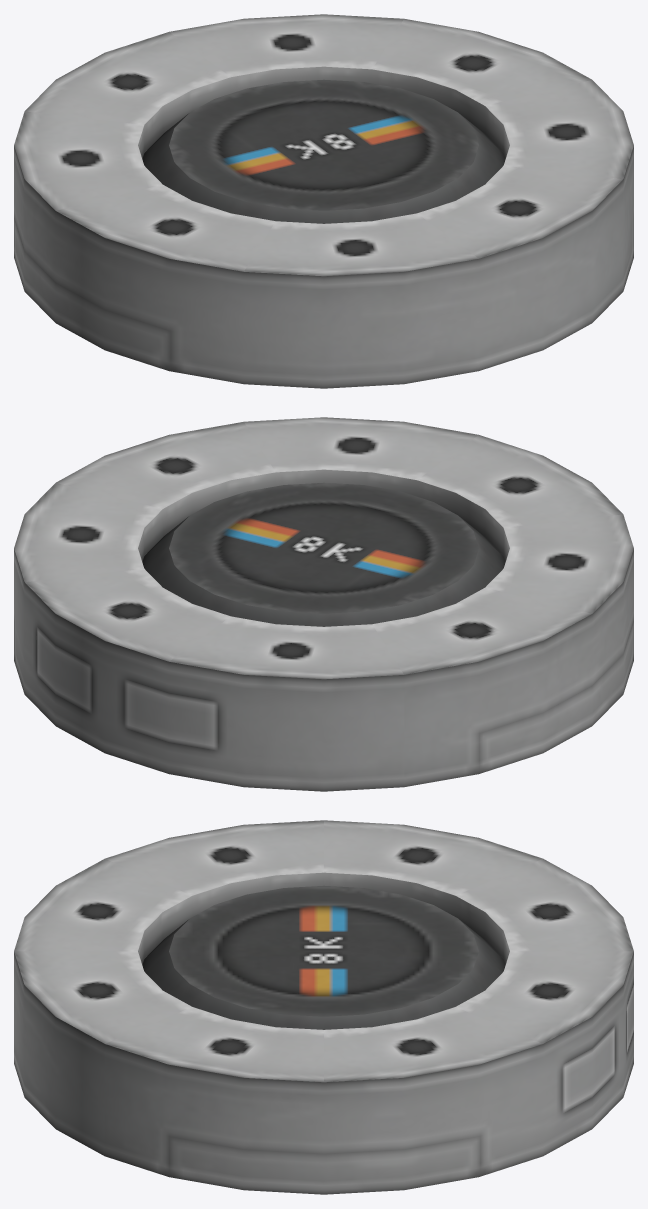
The model's file is castor_control_s0_1.obj.
3 views of the same model, one above another, from view 1: azimuth 30°, elevation 25°; view 2: azimuth 150°, elevation 25°; view 3: azimuth 270°, elevation 25° (orthographic).
Parts seen in each view (by area): view 1: castor_control_s0_1; view 2: castor_control_s0_1; view 3: castor_control_s0_1.
Boxes of the visible parts, box(x1,y1,x2,y2) form: castor_control_s0_1: box(14, 14, 633, 388); castor_control_s0_1: box(14, 417, 633, 791); castor_control_s0_1: box(14, 820, 633, 1194).
Size of the model in its own units: 0.625 by 0.125 by 0.625.
